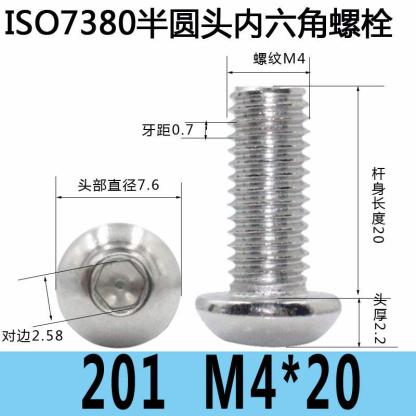FOD: (193, 82, 344, 348), (53, 221, 185, 349)
